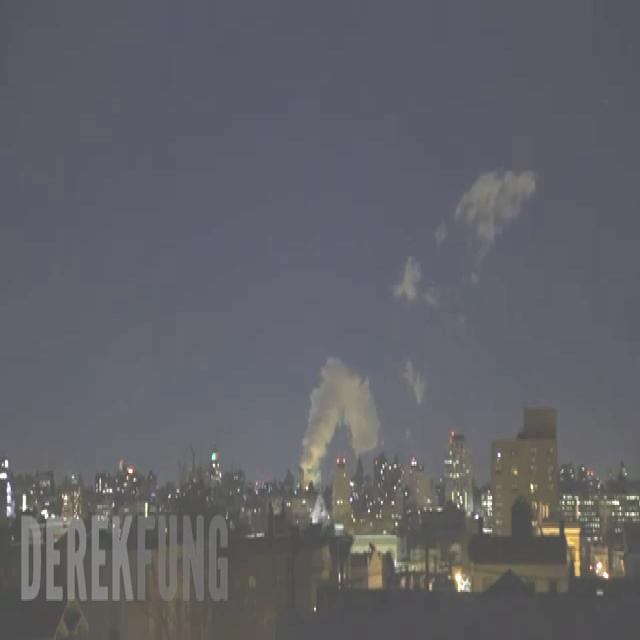smoke: (300, 357, 379, 485)
